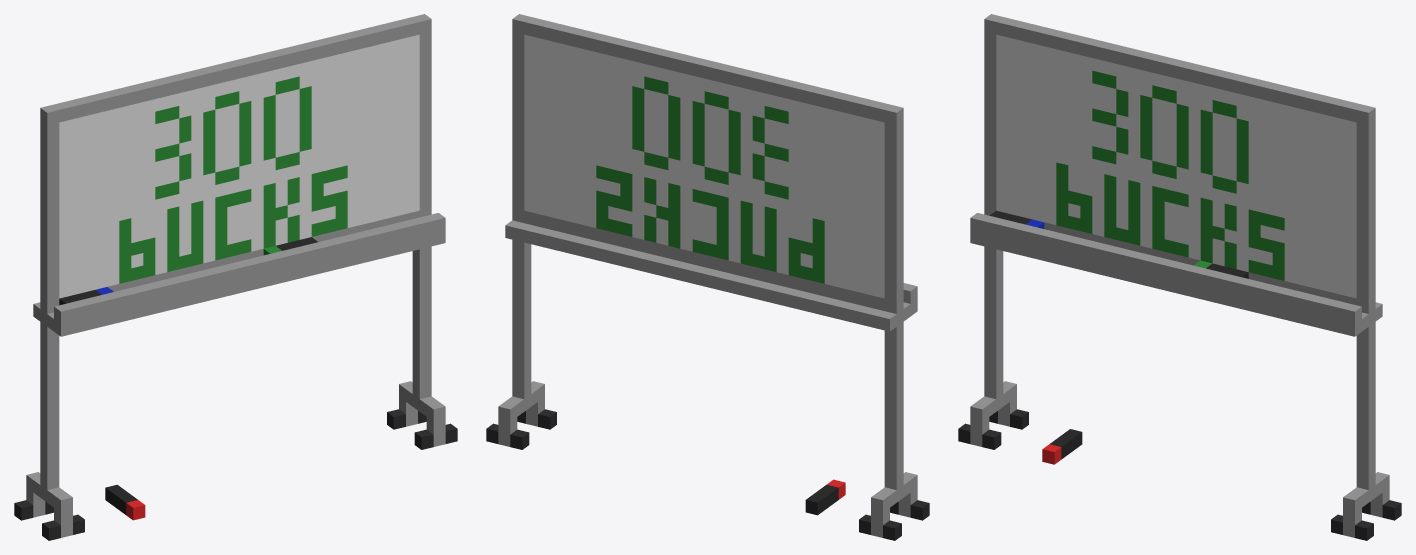
The model's file is Deck(300 bucks).obj.
The picture shows the model from 3 angles, left to right: view 1: azimuth 30°, elevation 25°; view 2: azimuth 150°, elevation 25°; view 3: azimuth 330°, elevation 25°; orthographic projection.
Size of the model in its own units: 3.4 by 3.3 by 0.5.
1 material, 1 textured.
